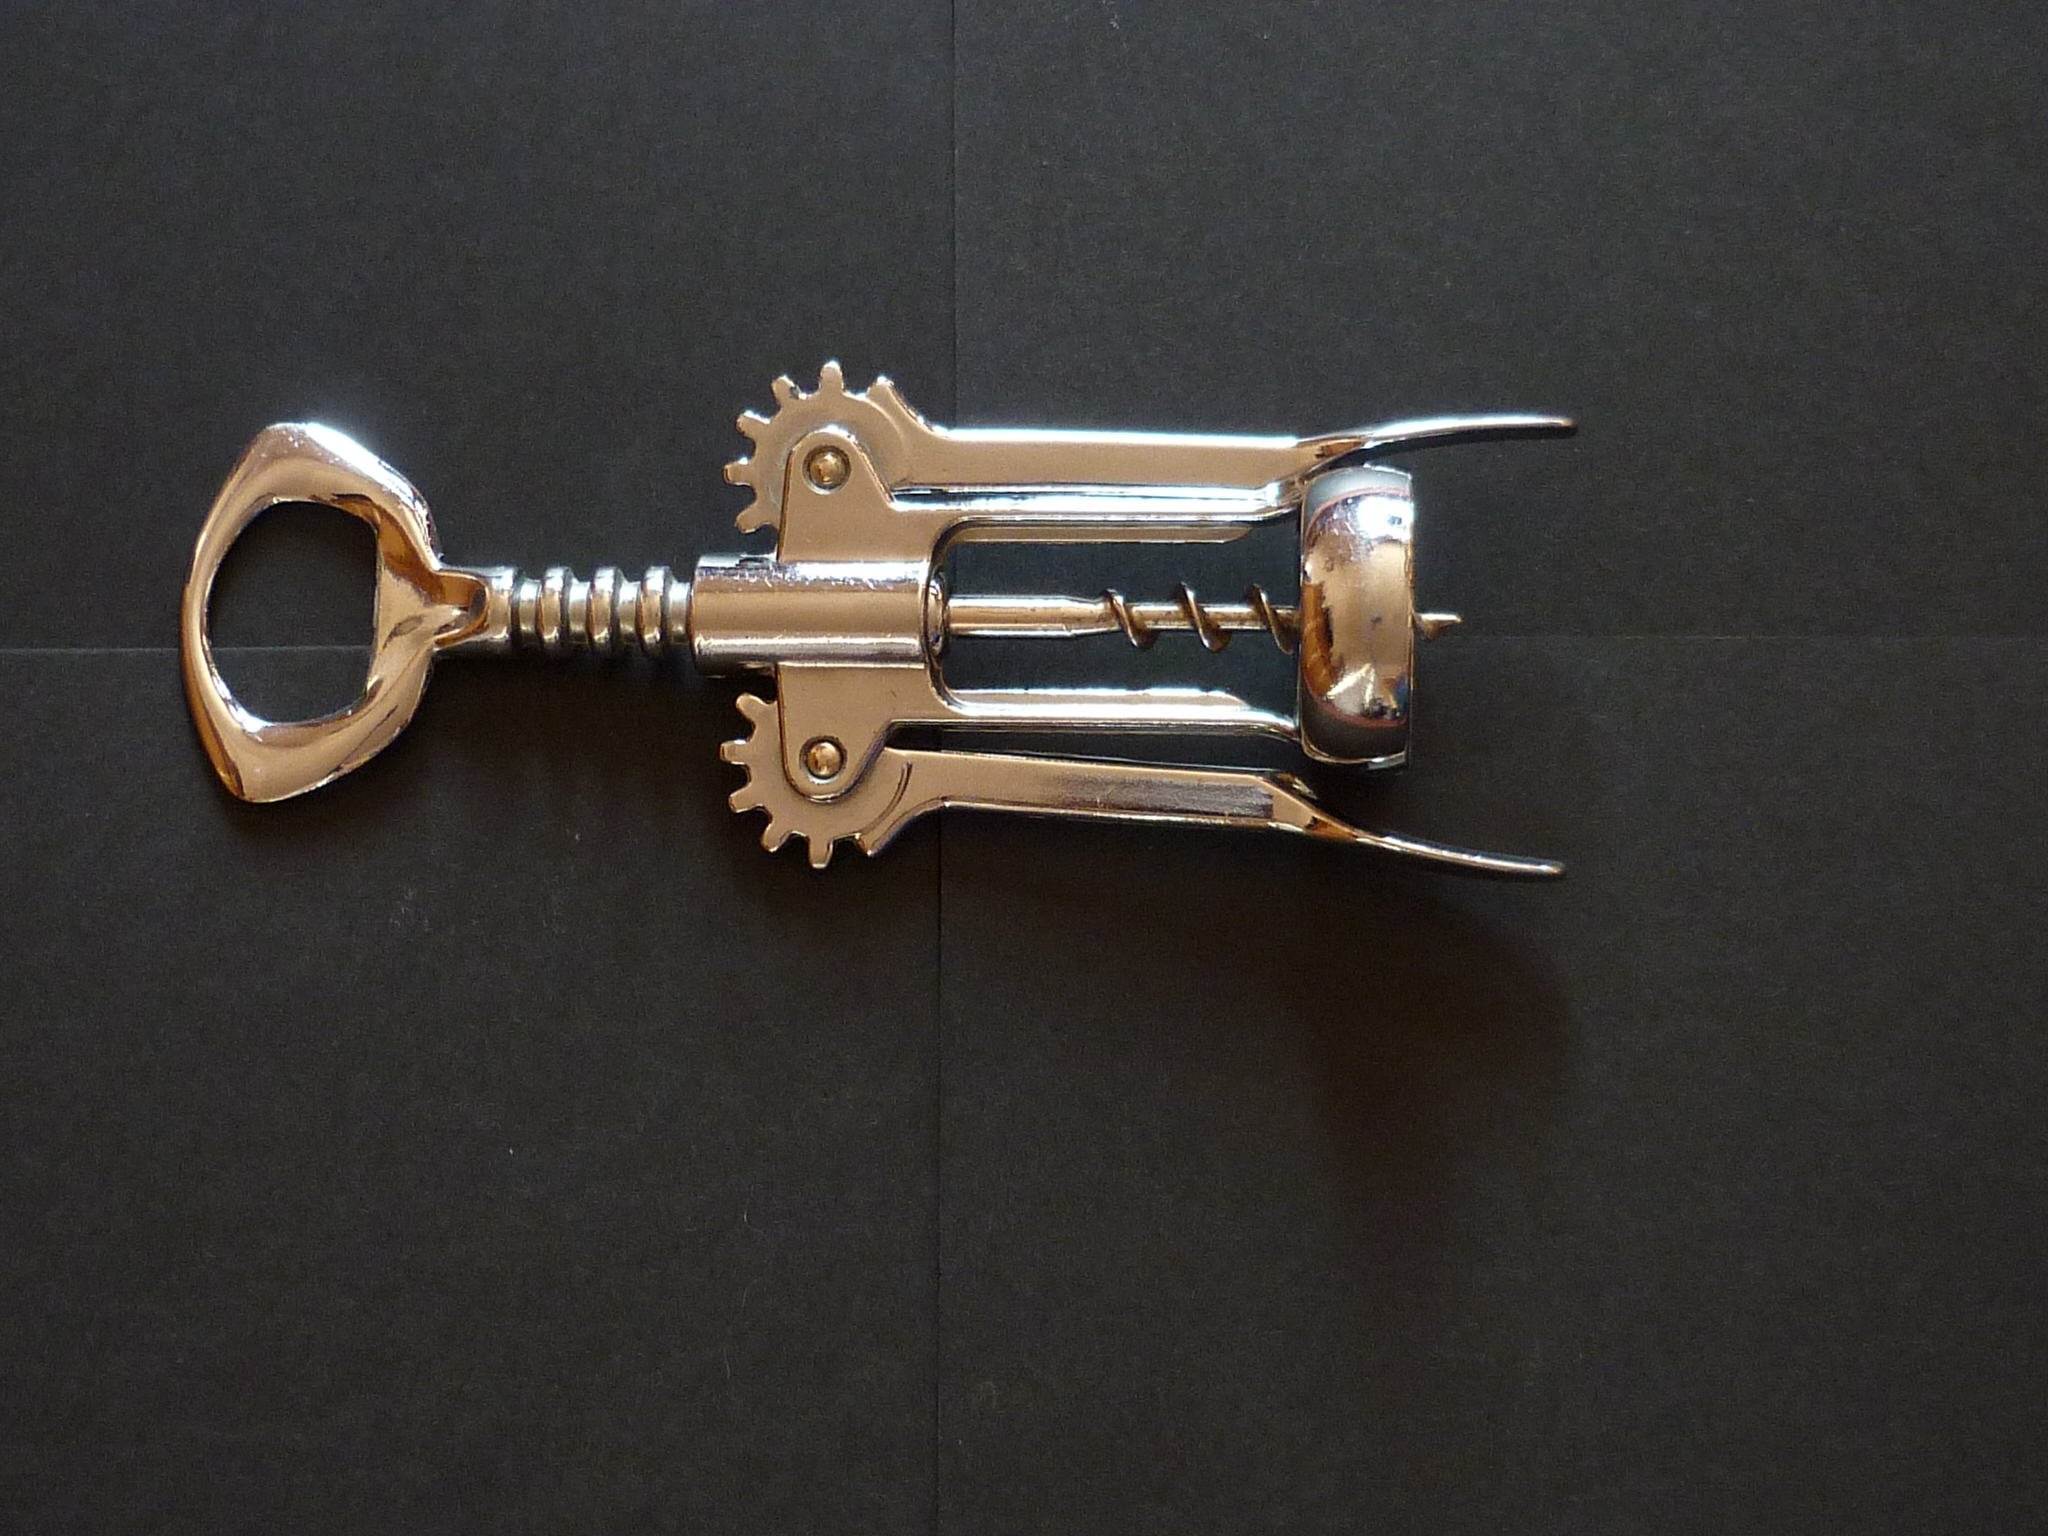bottleopener: (173, 358, 1580, 886)
